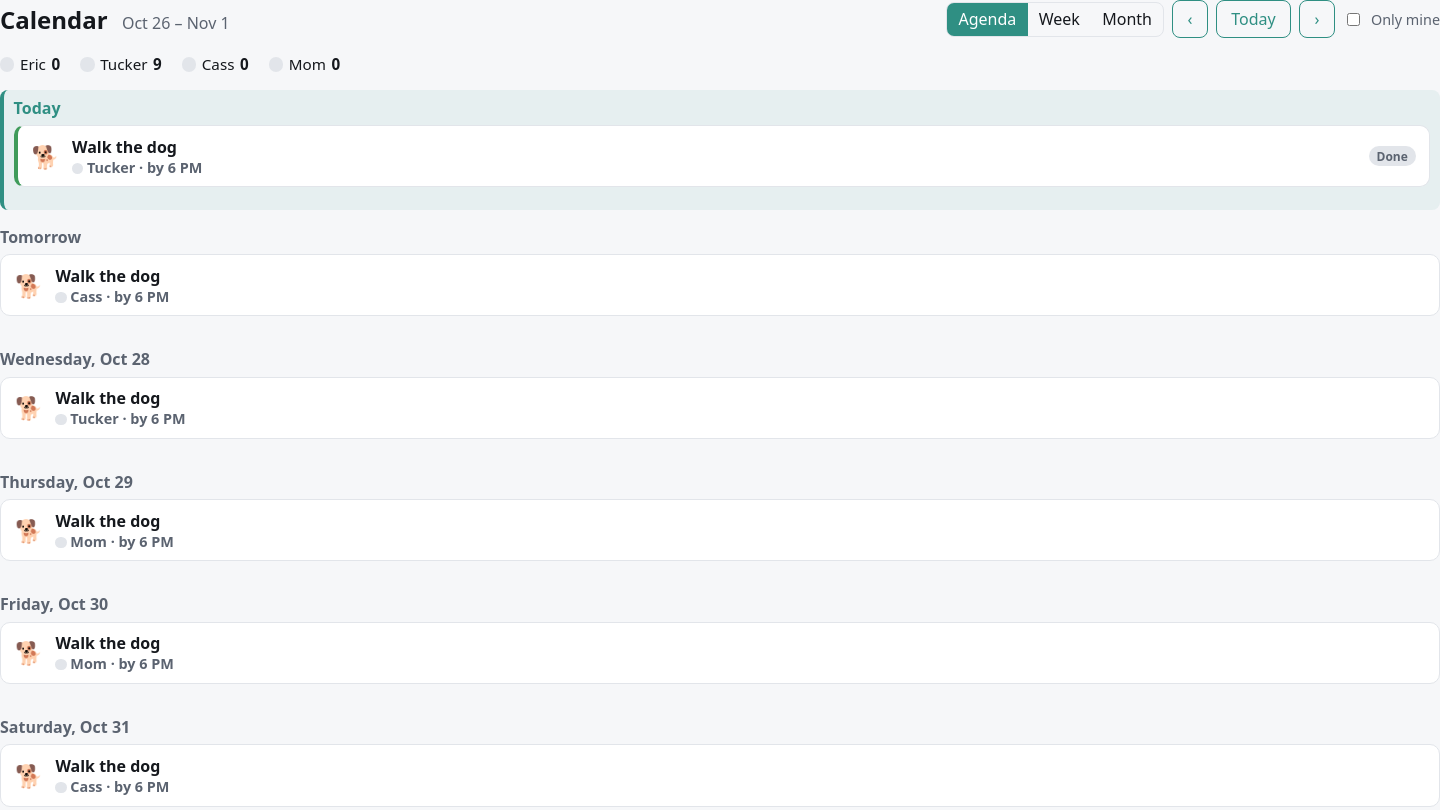
Scenario: calendar › a recorded day offers undo, with a reason
Click the button "🐕 Walk the dog Tucker · by 6 PM Done" at (124, 147), box [14, 125, 1430, 187]
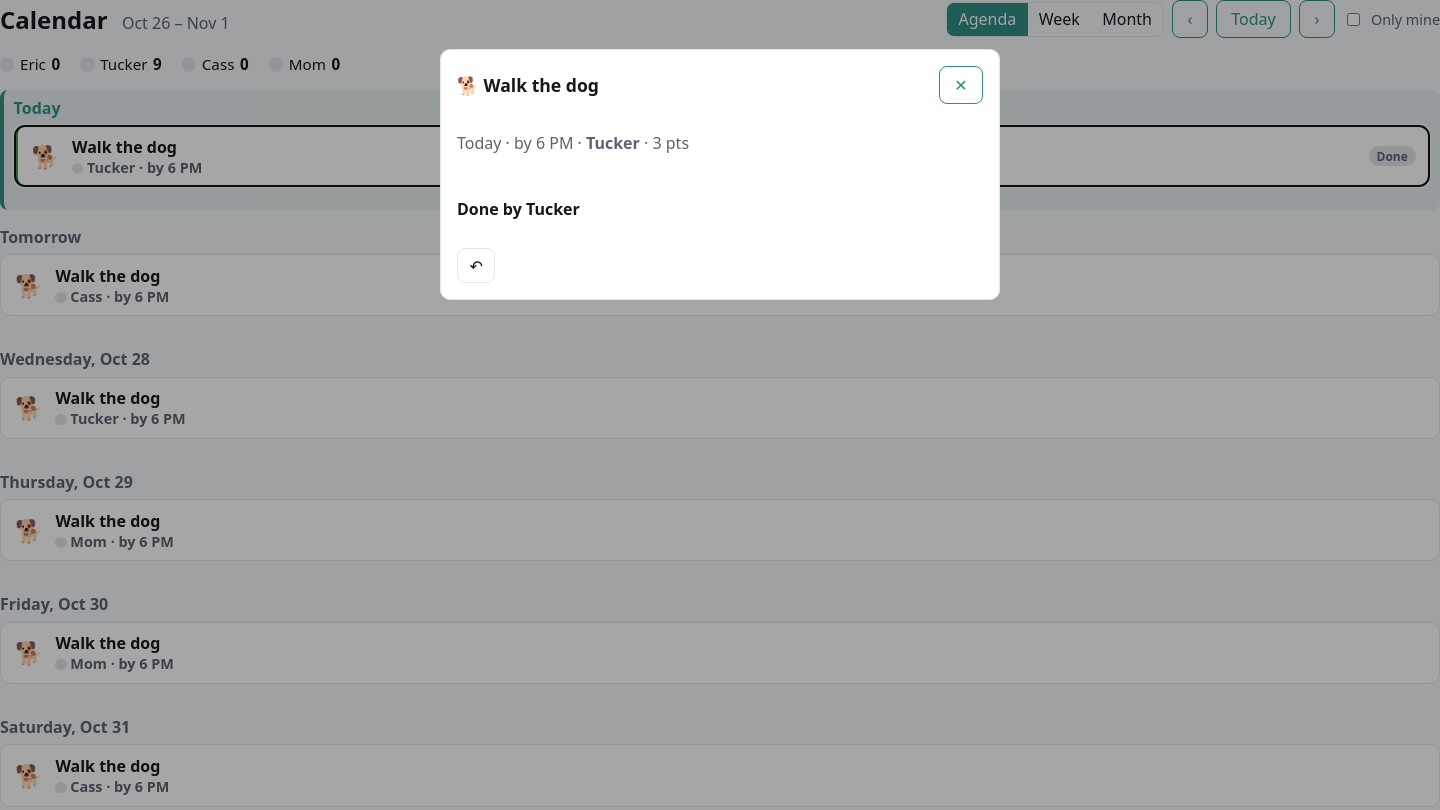
Result: the text "Done by Tucker" is shown at [457, 198, 580, 220]
Click the button named "Undo" at (476, 266), box [457, 248, 495, 283]
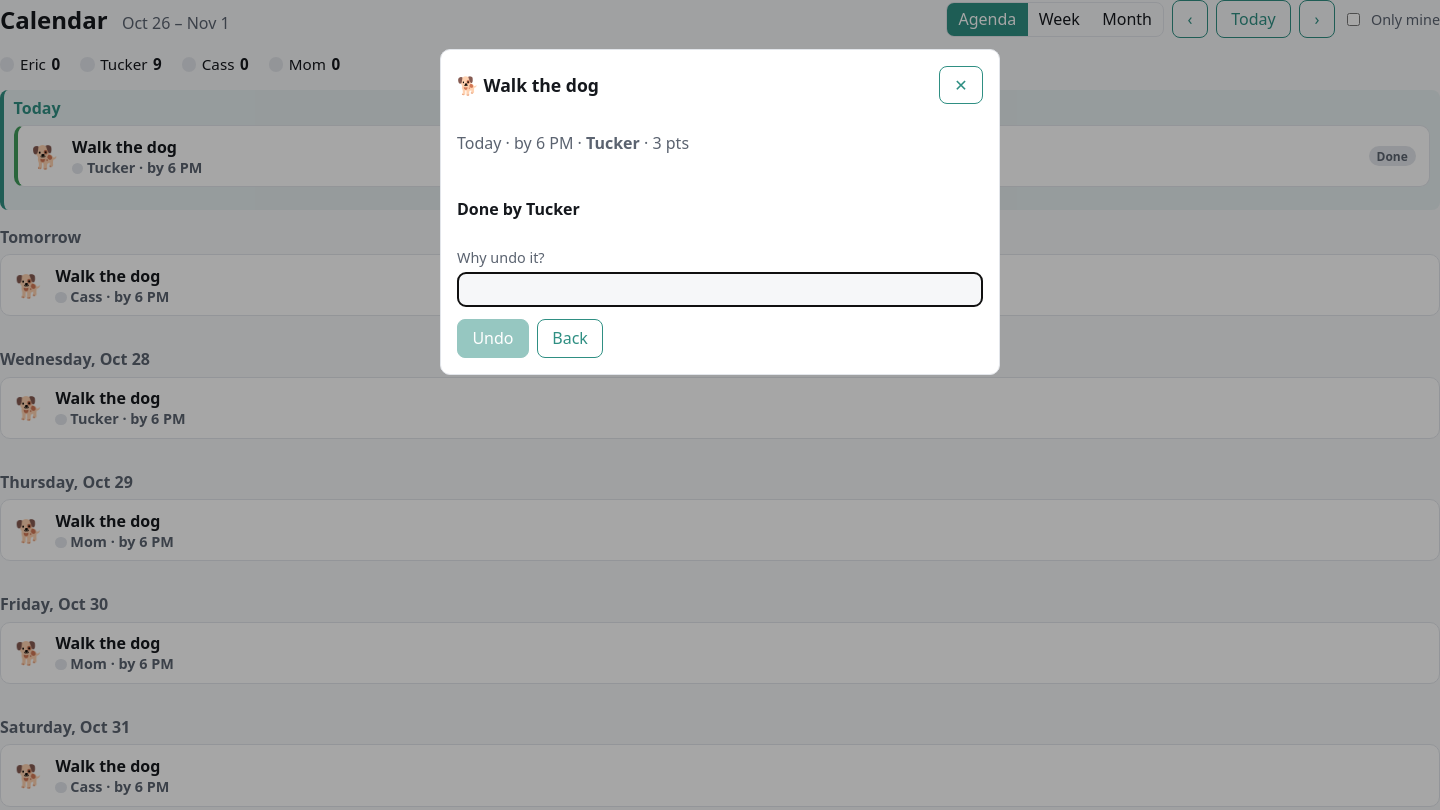
Result: the button "Undo" is disabled at [457, 319, 529, 358]
